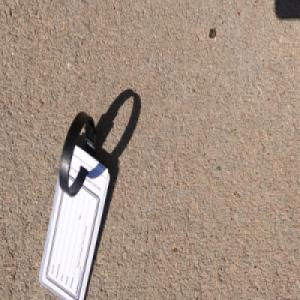LuggageTag: (38, 109, 110, 300)
